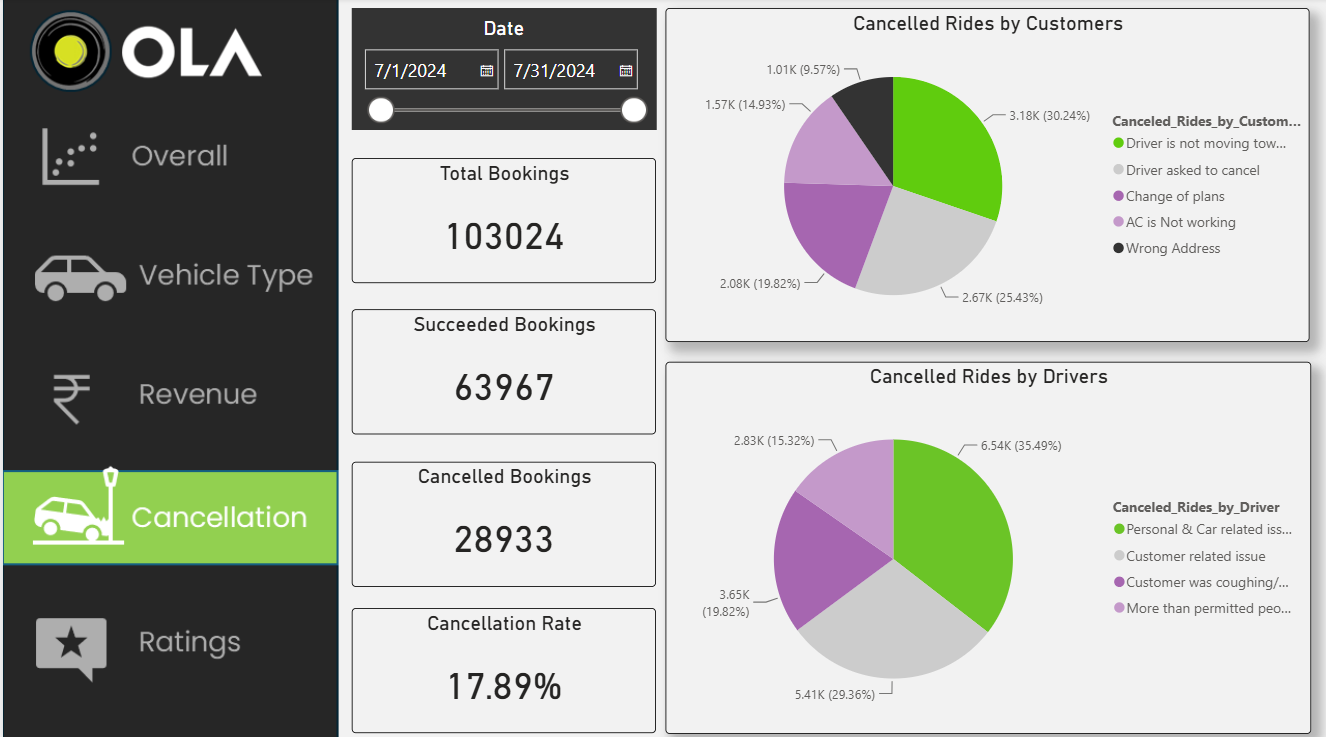

What the dashboard file says about the page in this screenshot:
{"tool":"powerbi","page":{"name":"Cancellation","canvas":[1280,720],"ordinal":3},"visuals":[{"type":"pieChart","title":"Cancelled Rides by Customers","fields":{"Category":["July.Canceled_Rides_by_Customer"],"Y":["CountNonNull(July.Canceled_Rides_by_Customer)"]},"box":[640,10,621.5,322.1],"z":0},{"type":"pieChart","title":"Cancelled Rides by Drivers","fields":{"Category":["July.Canceled_Rides_by_Driver"],"Y":["CountNonNull(July.Canceled_Rides_by_Driver)"]},"box":[640,350.6,622.9,359.2],"z":1000},{"type":"slicer","title":"Date","fields":{"Values":["July.Date"]},"box":[336.4,10,293.6,116.9],"z":2000},{"type":"card","title":"Total Bookings","fields":{"Values":["Count(July.Booking_ID)"]},"box":[336.4,153.9,293.6,121.2],"z":3000},{"type":"card","title":"Succeeded Bookings","fields":{"Values":["Count(July.Booking_ID)"]},"box":[336.4,300.8,293.6,121.2],"z":4000},{"type":"card","title":"Cancelled Bookings","fields":{"Values":["Count(July.Booking_ID)"]},"box":[336.4,447.6,293.6,121.2],"z":5000},{"type":"card","title":"Cancellation Rate","fields":{"Values":["July.Cancelled Percentage"]},"box":[336.4,588.7,293.6,121.2],"z":6000},{"type":"actionButton","box":[0,108.3,326.4,89.8],"z":7000},{"type":"actionButton","box":[0,230.9,326.4,86.9],"z":8000},{"type":"actionButton","box":[0,332.1,326.4,86.9],"z":9000},{"type":"actionButton","box":[0,588.7,326.4,86.9],"z":10000}]}

Visuals, with their boxes in screenshot pixels (x1, y1, x2, y2), scaled from the page's 1280x720 canvas onto the 1326x737 screenshot:
"Cancelled Rides by Customers" pieChart: pyautogui.locateOnScreen(663, 10, 1307, 340)
"Cancelled Rides by Drivers" pieChart: pyautogui.locateOnScreen(663, 359, 1308, 727)
"Date" slicer: pyautogui.locateOnScreen(348, 10, 653, 130)
"Total Bookings" card: pyautogui.locateOnScreen(348, 158, 653, 282)
"Succeeded Bookings" card: pyautogui.locateOnScreen(348, 308, 653, 432)
"Cancelled Bookings" card: pyautogui.locateOnScreen(348, 458, 653, 582)
"Cancellation Rate" card: pyautogui.locateOnScreen(348, 603, 653, 727)
actionButton: pyautogui.locateOnScreen(0, 111, 338, 203)
actionButton: pyautogui.locateOnScreen(0, 236, 338, 325)
actionButton: pyautogui.locateOnScreen(0, 340, 338, 429)
actionButton: pyautogui.locateOnScreen(0, 603, 338, 692)
